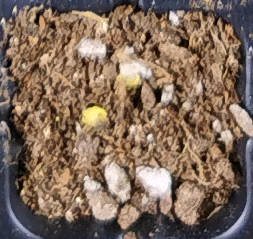chilli seed: (80, 105, 108, 124), (115, 74, 140, 86)
